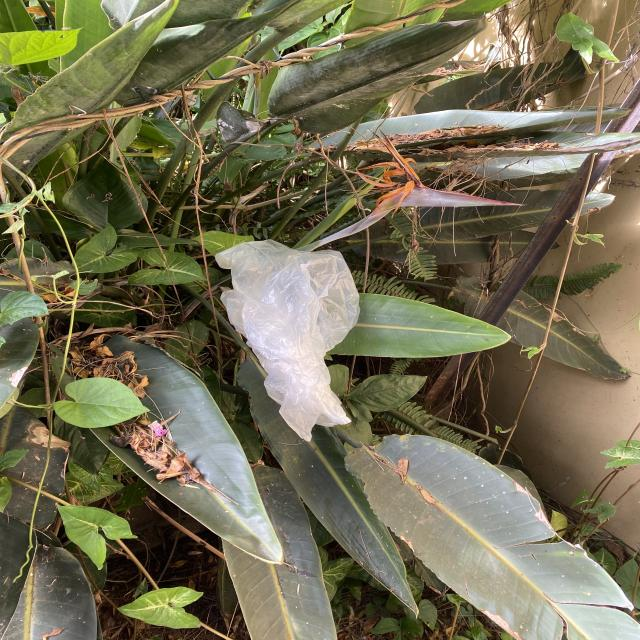bag: (215, 238, 361, 442)
